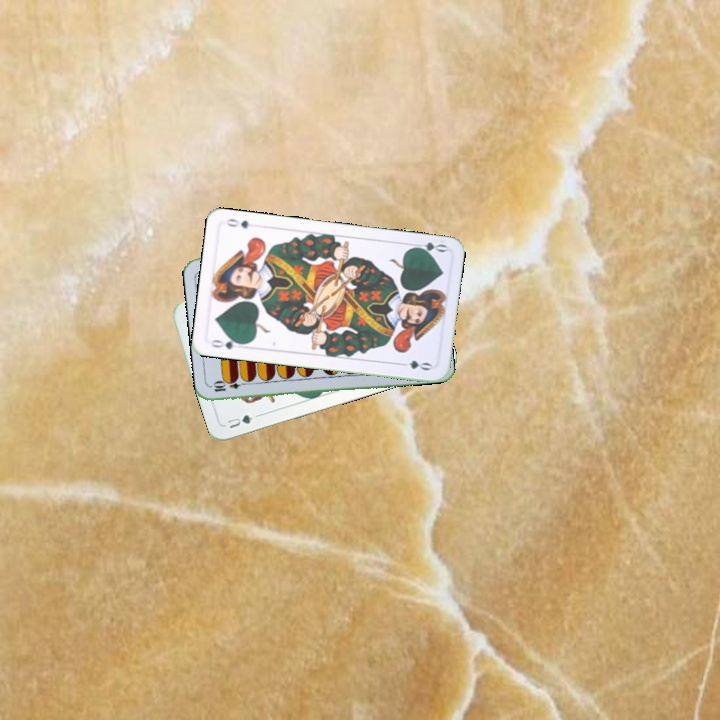E10: (209, 377, 250, 394)
GO: (408, 238, 449, 257), (207, 334, 247, 352)
GU: (223, 410, 255, 431)
